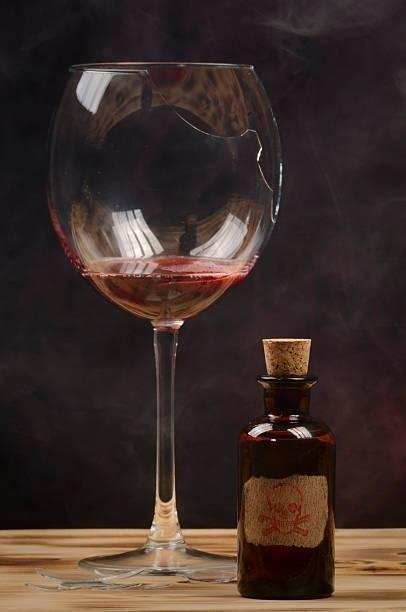glass-wine: (46, 60, 282, 578)
